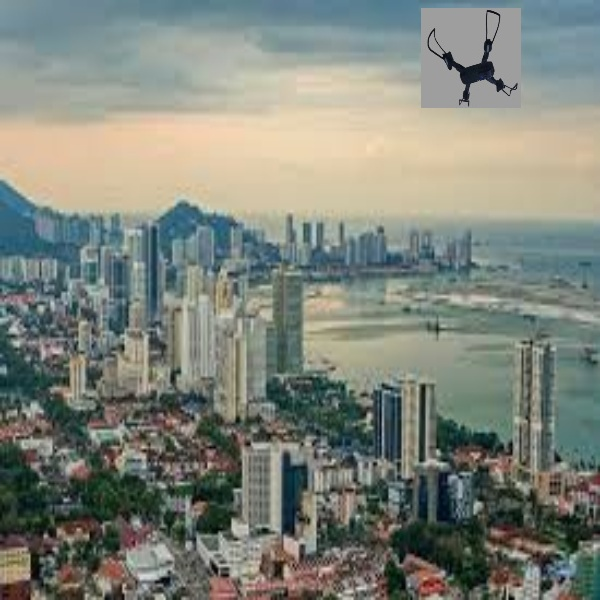drone: (424, 7, 523, 104)
